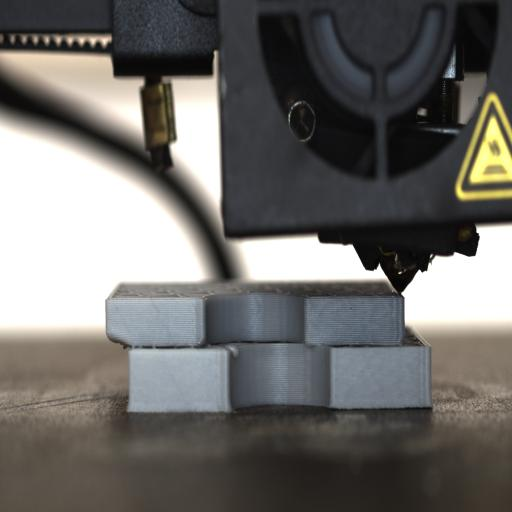layer_shift: (106, 333, 434, 355)
